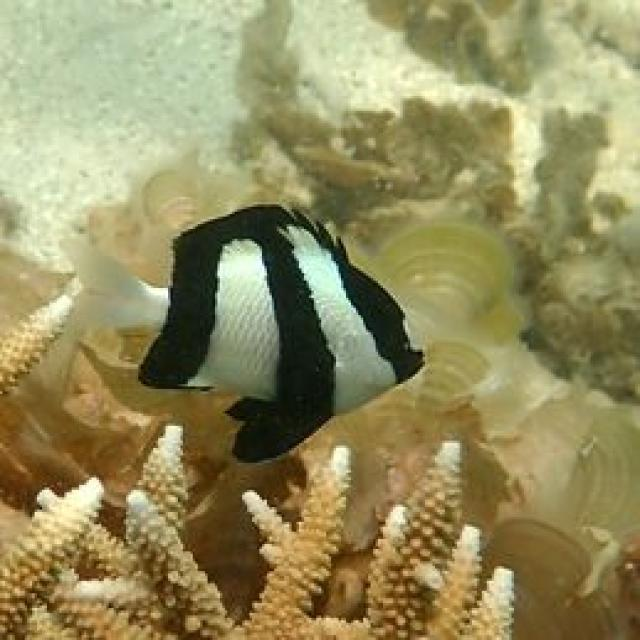ThreeStripedDamselfish: (67, 207, 427, 465)
